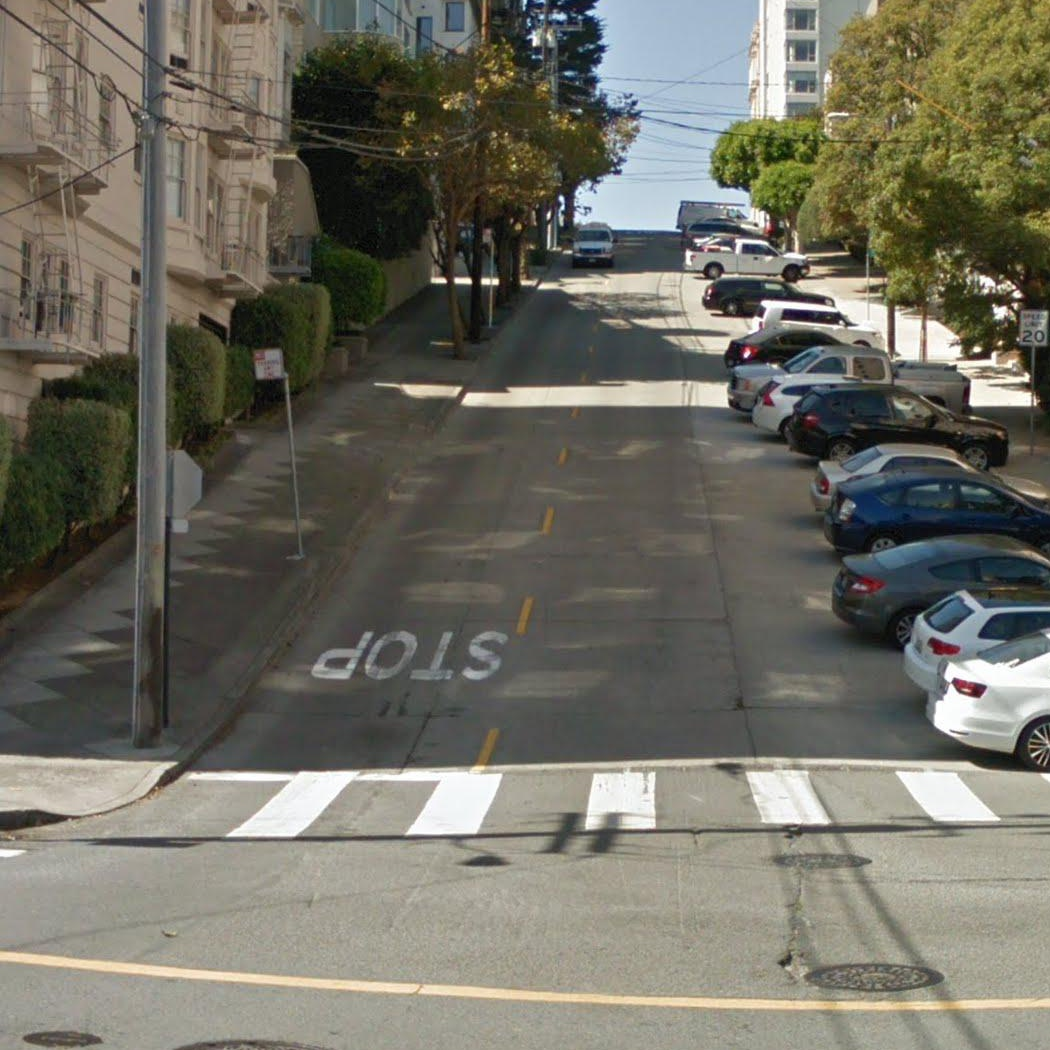No Parking Anytime: (251, 347, 286, 379)
